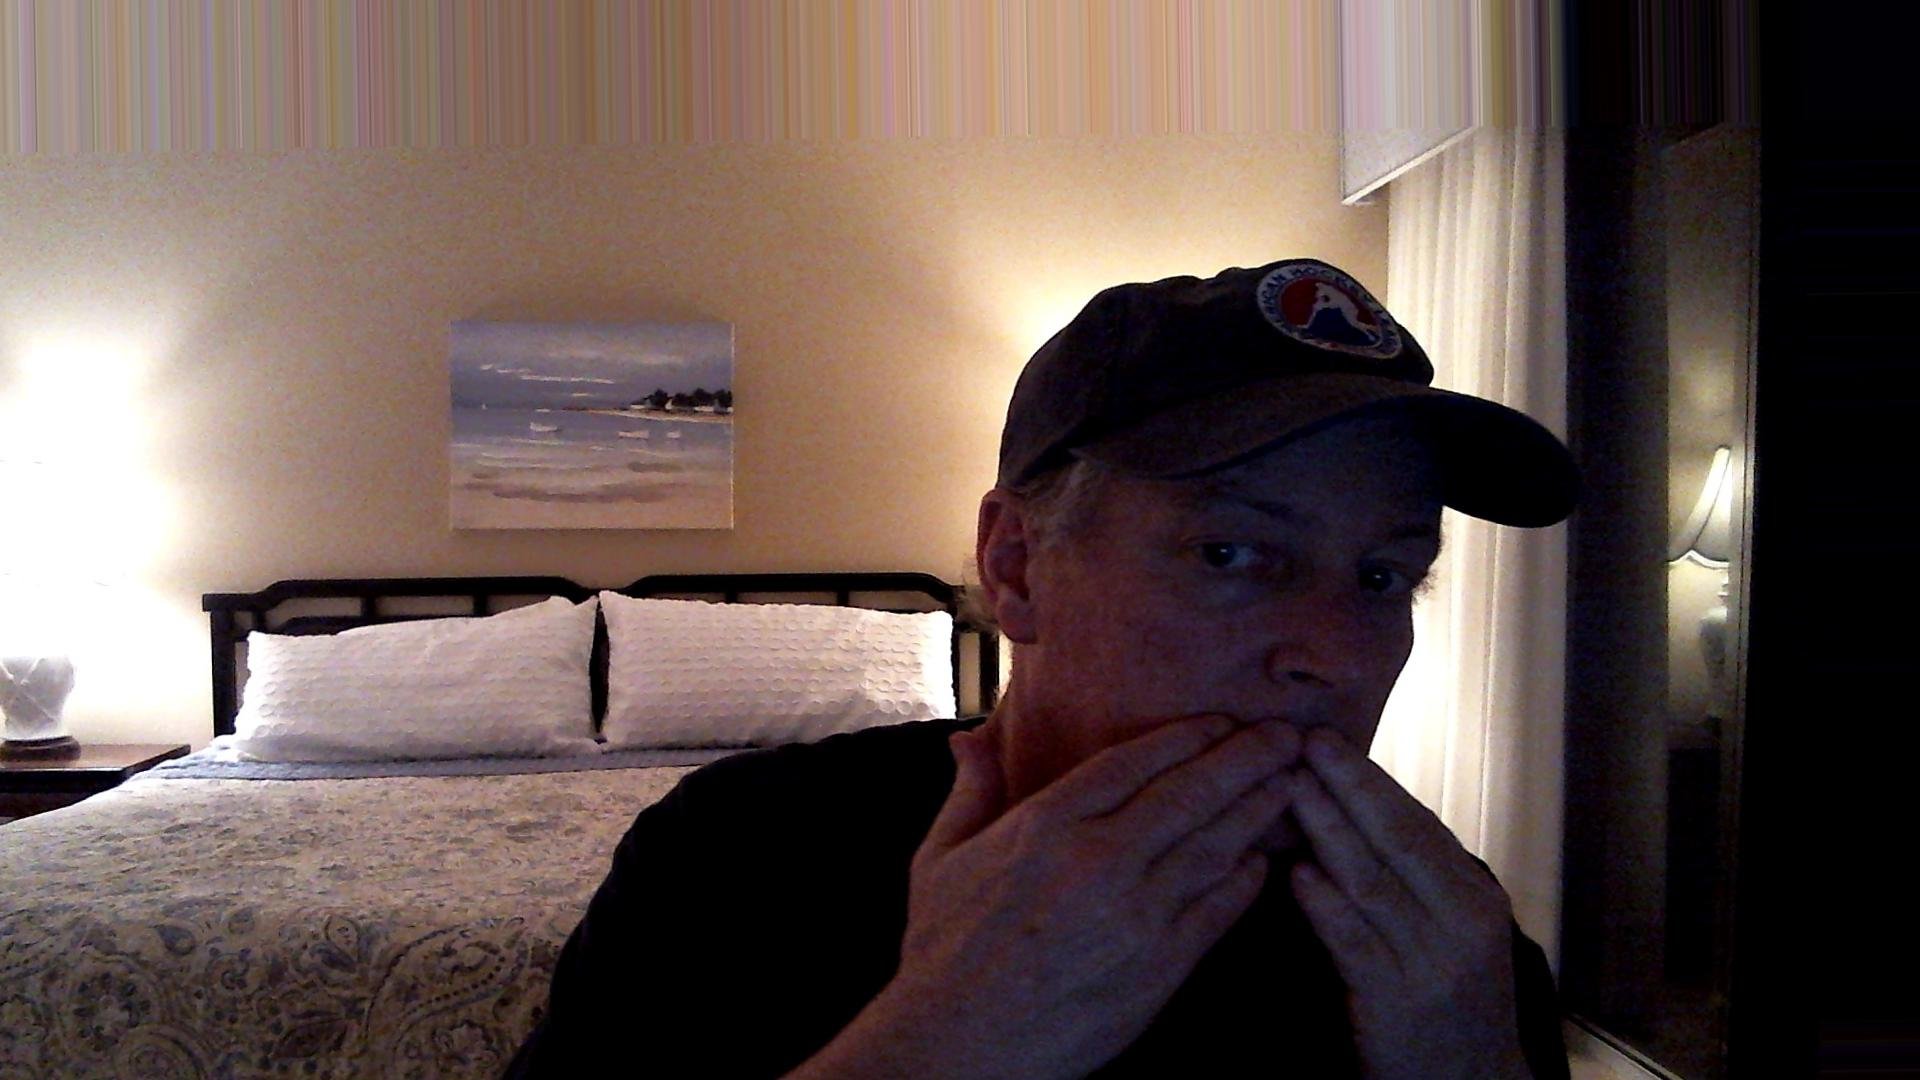Thank You: (880, 676, 1600, 1080)
